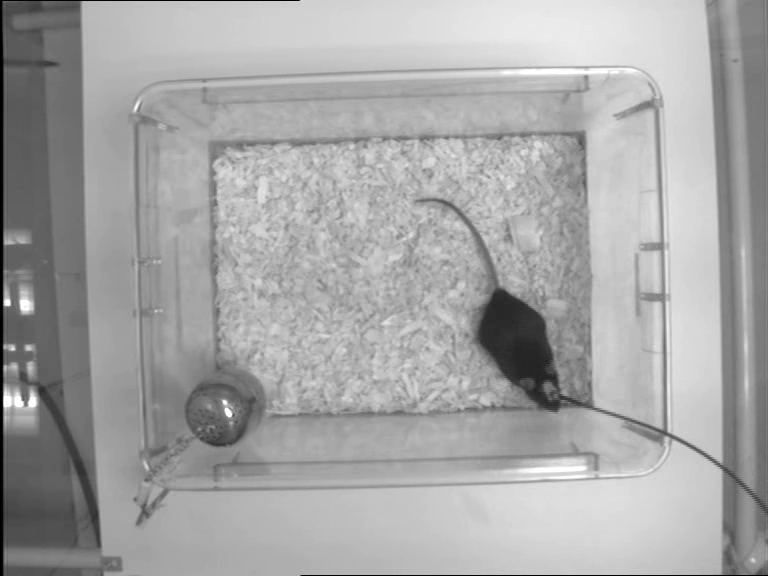mice: (410, 194, 562, 414)
